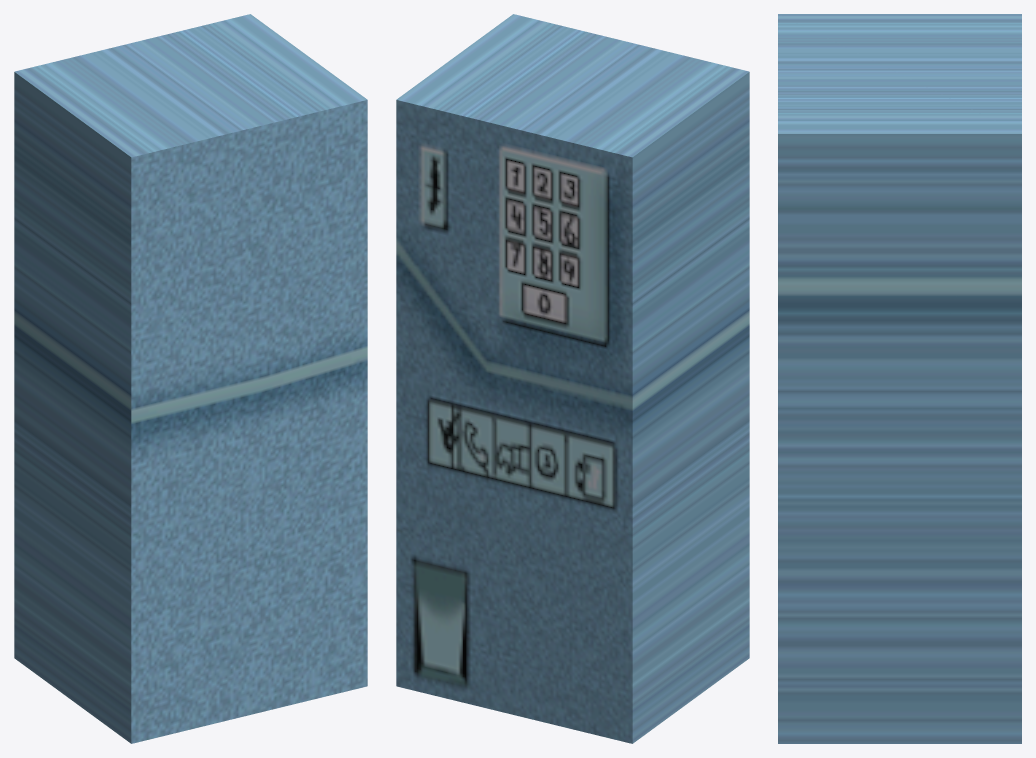
Rendered from Pay2.glb.
The picture shows the model from 3 angles, left to right: view 1: azimuth 30°, elevation 25°; view 2: azimuth 150°, elevation 25°; view 3: azimuth 270°, elevation 25°; orthographic projection. The views are drawn at different scales.
Parts seen in each view (by area): view 1: Pay2; view 2: Pay2; view 3: Pay2.
Part boxes in pixels (x1=…): Pay2: x1=14, y1=14, x2=367, y2=743; Pay2: x1=396, y1=14, x2=749, y2=743; Pay2: x1=778, y1=14, x2=1021, y2=743.
Size of the model in its own units: 30.92 by 73.32 by 26.57.
Materials: 1 (1 with a texture image).
